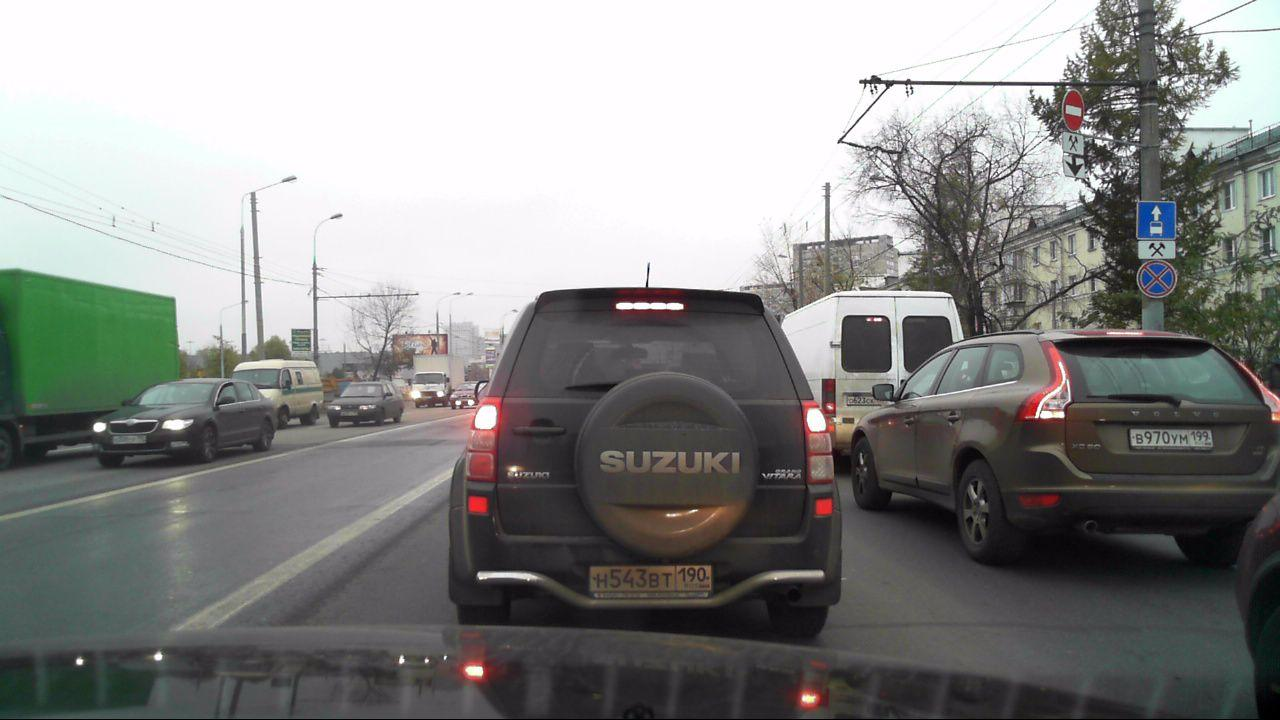3_1: (1062, 89, 1084, 132)
3_27: (1137, 261, 1177, 298)
5_14_1: (1136, 200, 1177, 239)
8_14: (1062, 155, 1086, 180)
8_5_2: (1137, 240, 1176, 259), (1063, 134, 1085, 155)
